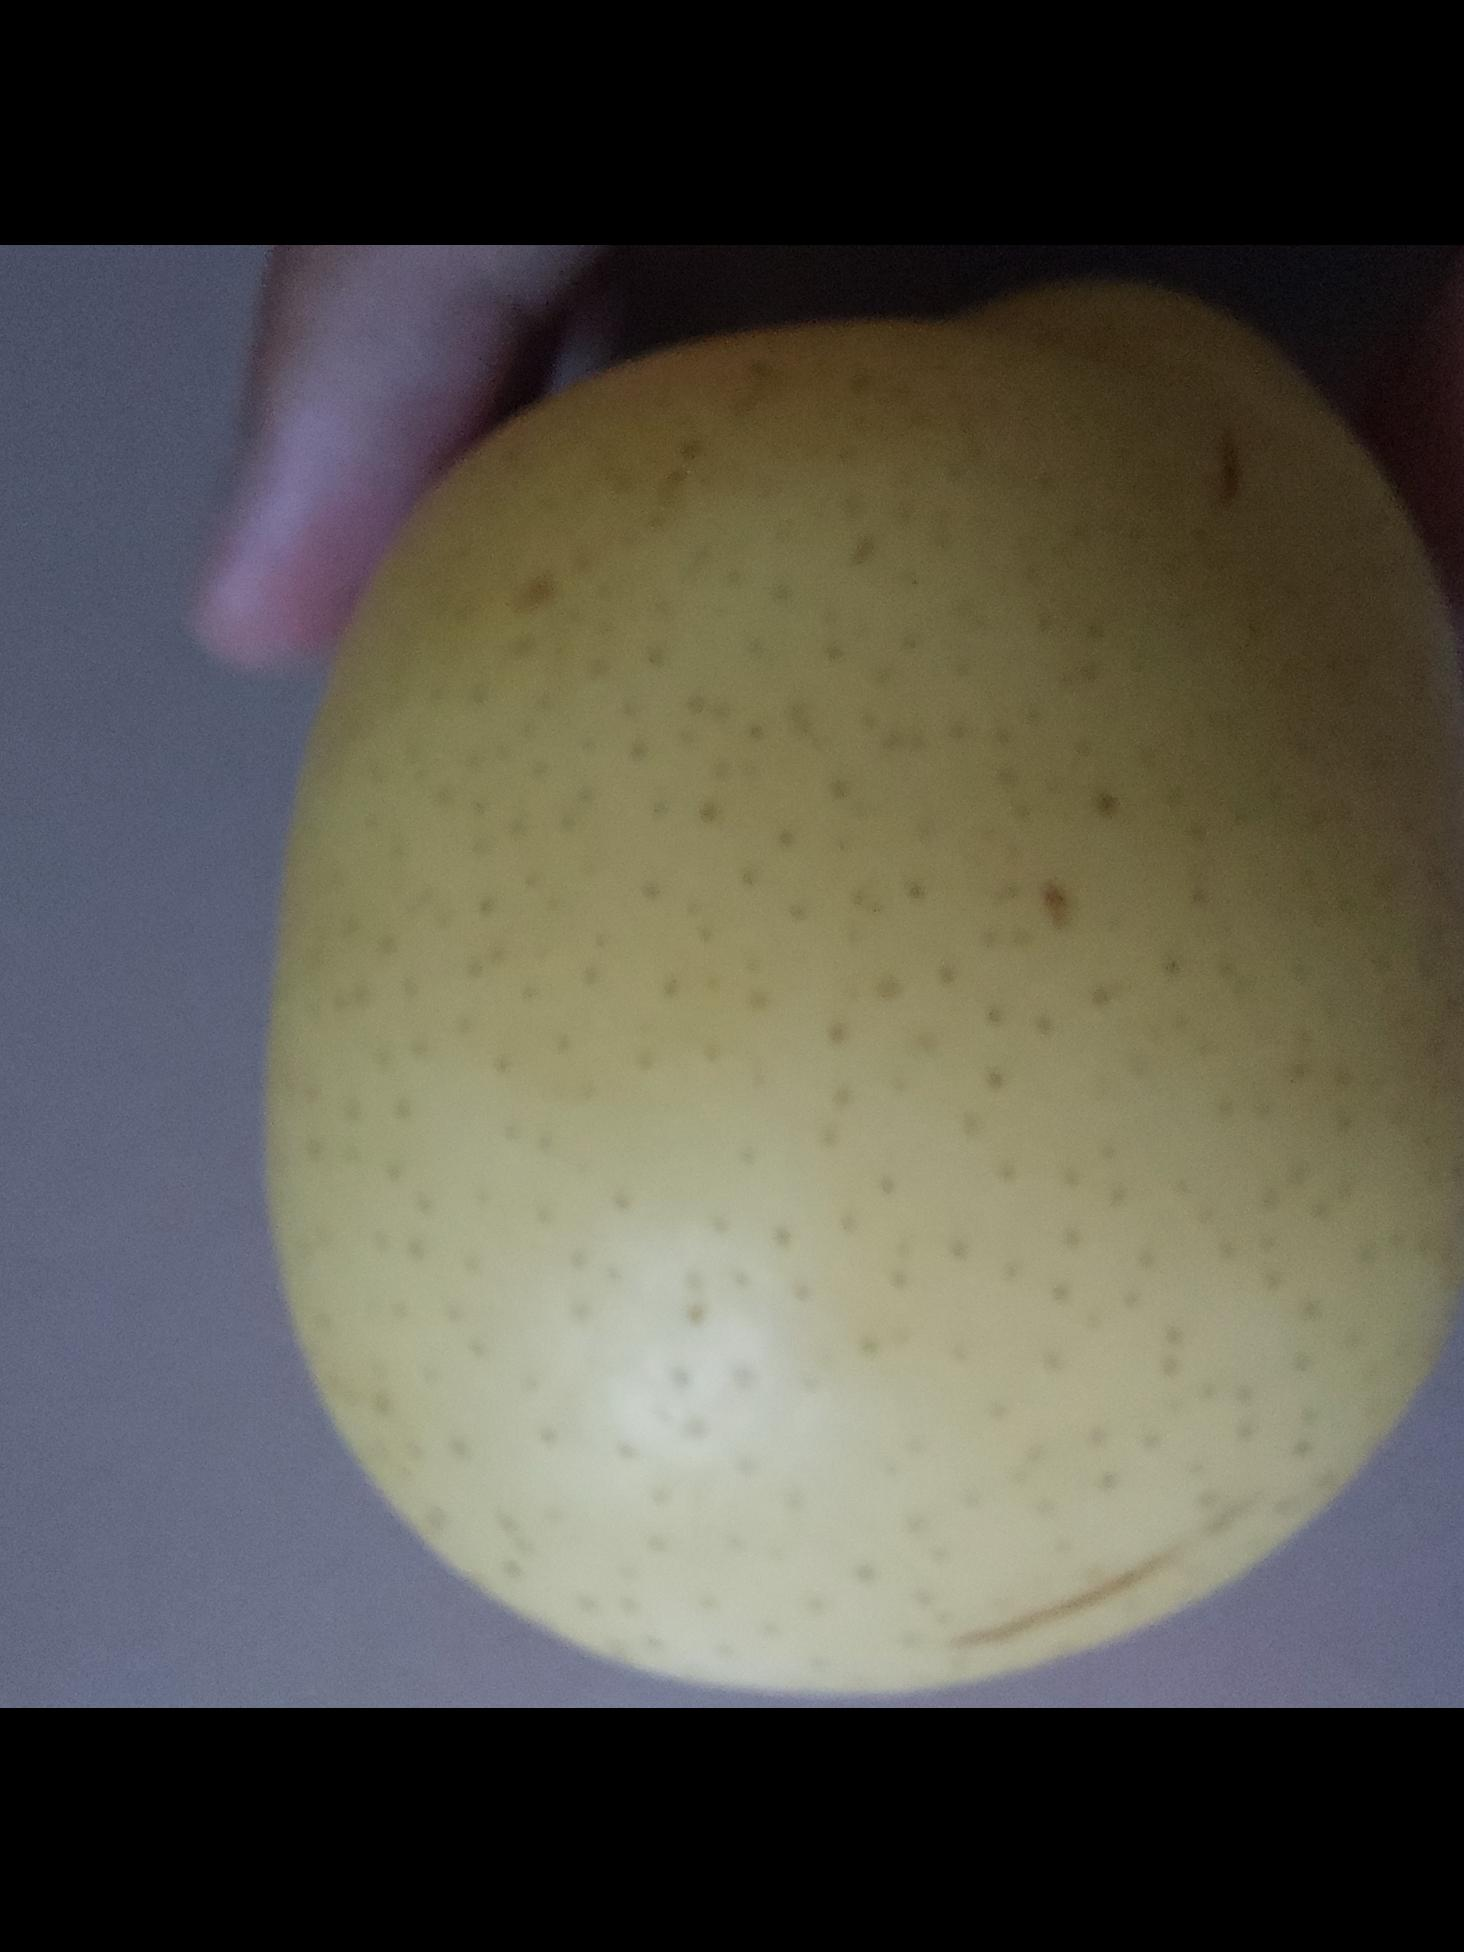Good Pear: (274, 603, 1464, 1708)
